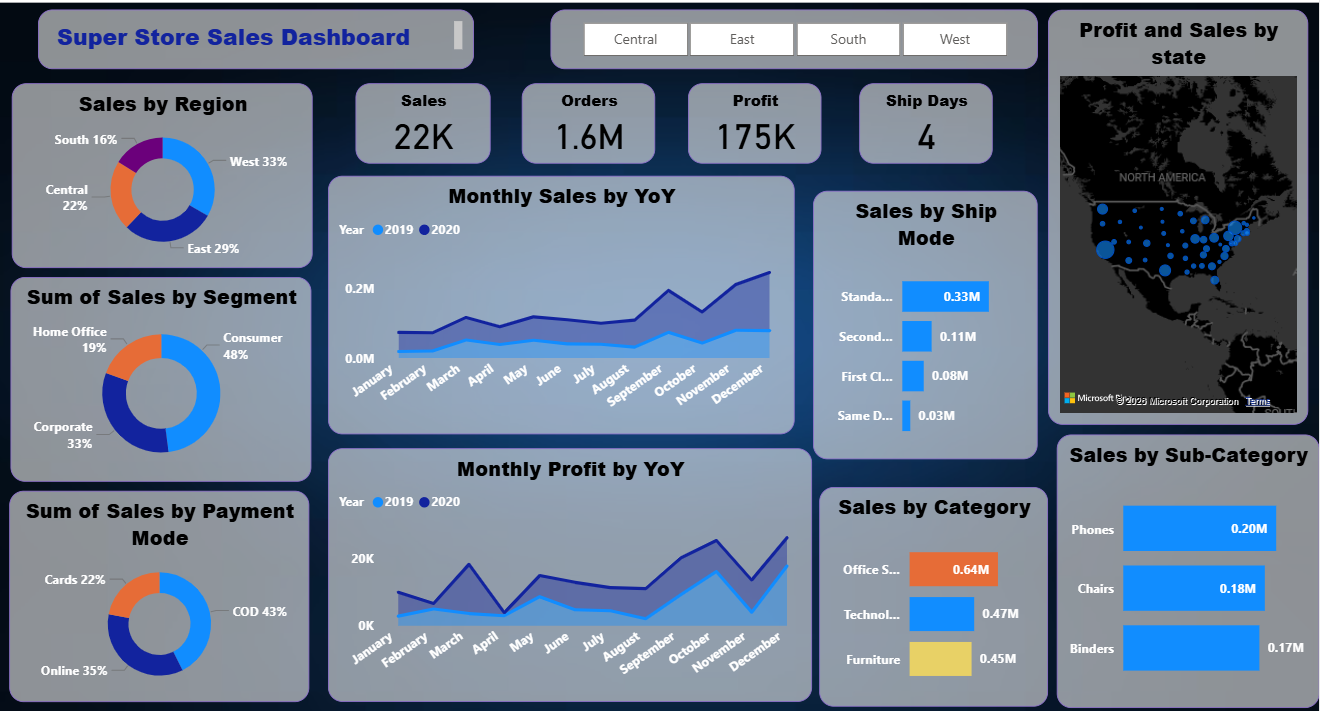

This screenshot's page, from the dashboard's own definition file:
{"tool":"powerbi","page":{"name":"Page 1","canvas":[1280,720],"ordinal":0},"visuals":[{"type":"clusteredBarChart","title":"Sales by Category","fields":{"Category":["SuperStore_Sales_Dataset.Category"],"Y":["Sum(SuperStore_Sales_Dataset.Sales)"]},"box":[797.5,482.6,220.8,212.3],"z":0},{"type":"clusteredBarChart","title":"Sales by Sub-Category","fields":{"Category":["SuperStore_Sales_Dataset.Sub-Category"],"Y":["Sum(SuperStore_Sales_Dataset.Sales)"]},"box":[1026.7,431.9,253.4,264.2],"z":1000},{"type":"clusteredBarChart","title":"Sales by Ship Mode","fields":{"Category":["SuperStore_Sales_Dataset.Ship Mode"],"Y":["Sum(SuperStore_Sales_Dataset.Sales)"]},"box":[791.4,196.6,217.2,259.4],"z":2000},{"type":"stackedAreaChart","title":"Monthly Sales by YoY","fields":{"Y":["Sum(SuperStore_Sales_Dataset.Sales)"],"Category":["SuperStore_Sales_Dataset.Order Date.Variation.Date Hierarchy.Month","SuperStore_Sales_Dataset.Order Date.Variation.Date Hierarchy.Day"],"Series":["SuperStore_Sales_Dataset.Order Date.Variation.Date Hierarchy.Year"]},"box":[323.3,182.2,450,249.7],"z":3000},{"type":"stackedAreaChart","title":"Monthly Profit by YoY","fields":{"Category":["SuperStore_Sales_Dataset.Order Date.Variation.Date Hierarchy.Month","SuperStore_Sales_Dataset.Order Date.Variation.Date Hierarchy.Day"],"Series":["SuperStore_Sales_Dataset.Order Date.Variation.Date Hierarchy.Year"],"Y":["Sum(SuperStore_Sales_Dataset.Profit)"]},"box":[323.8,445,467.5,245],"z":4000},{"type":"map","title":"Profit and Sales by state","fields":{"Category":["SuperStore_Sales_Dataset.State"],"Size":["Sum(SuperStore_Sales_Dataset.Sales)"]},"box":[1018.2,21.7,250.9,400.5],"z":5000},{"type":"donutChart","fields":{"Category":["SuperStore_Sales_Dataset.Segment"],"Y":["Sum(SuperStore_Sales_Dataset.Sales)"]},"box":[16.9,279.9,290.8,197.9],"z":6000},{"type":"donutChart","fields":{"Category":["SuperStore_Sales_Dataset.Payment Mode"],"Y":["Sum(SuperStore_Sales_Dataset.Sales)"]},"box":[15.7,486.2,289.5,203.9],"z":7000},{"type":"slicer","fields":{"Values":["SuperStore_Sales_Dataset.Region"]},"box":[538.1,21.7,470.5,57.9],"z":8000},{"type":"textbox","box":[43.4,21.7,421,57.9],"z":9000},{"type":"card","title":"Orders","fields":{"Values":["Sum(SuperStore_Sales_Dataset.Sales)"]},"box":[510.3,92.9,129.1,77.2],"z":10000},{"type":"card","title":"Sales","fields":{"Values":["Sum(SuperStore_Sales_Dataset.Quantity)"]},"box":[349.9,92.9,130.3,77.2],"z":11000},{"type":"card","title":"Profit","fields":{"Values":["Sum(SuperStore_Sales_Dataset.Profit)"]},"box":[670.8,92.9,129.1,77.2],"z":12000},{"type":"card","title":"Ship Days","fields":{"Values":["Avg(SuperStore_Sales_Dataset.AvgDelivery)"]},"box":[836.1,92.9,129.1,77.2],"z":13000},{"type":"donutChart","title":"Sales by Region","fields":{"Y":["Sum(SuperStore_Sales_Dataset.Sales)"],"Category":["SuperStore_Sales_Dataset.Region"]},"box":[18.1,92.9,290.8,178.6],"z":14000}]}

Visuals, with their boxes in screenshot pixels (x1, y1, x2, y2):
"Sales by Category" clusteredBarChart: bbox=(818, 478, 1050, 700)
"Sales by Sub-Category" clusteredBarChart: bbox=(1058, 425, 1319, 702)
"Sales by Ship Mode" clusteredBarChart: bbox=(812, 178, 1039, 450)
"Monthly Sales by YoY" stackedAreaChart: bbox=(321, 163, 793, 425)
"Monthly Profit by YoY" stackedAreaChart: bbox=(322, 439, 812, 695)
"Profit and Sales by state" map: bbox=(1049, 0, 1312, 415)
donutChart - SuperStore_Sales_Dataset.Segment x Sum(SuperStore_Sales_Dataset.Sales): bbox=(1, 266, 305, 473)
donutChart - SuperStore_Sales_Dataset.Payment Mode x Sum(SuperStore_Sales_Dataset.Sales): bbox=(0, 482, 303, 695)
slicer - SuperStore_Sales_Dataset.Region: bbox=(547, 0, 1039, 56)
textbox: bbox=(28, 0, 469, 56)
"Orders" card: bbox=(517, 70, 653, 151)
"Sales" card: bbox=(349, 70, 486, 151)
"Profit" card: bbox=(686, 70, 821, 151)
"Ship Days" card: bbox=(859, 70, 994, 151)
"Sales by Region" donutChart: bbox=(2, 70, 306, 257)
